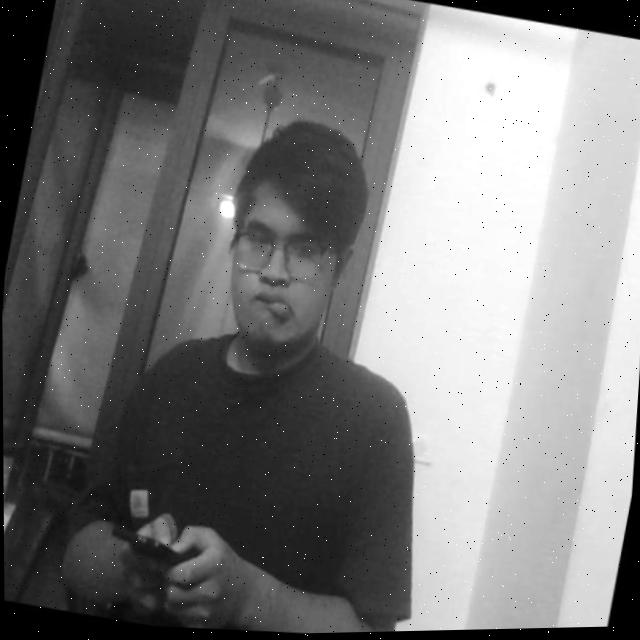phone: (82, 503, 207, 593)
